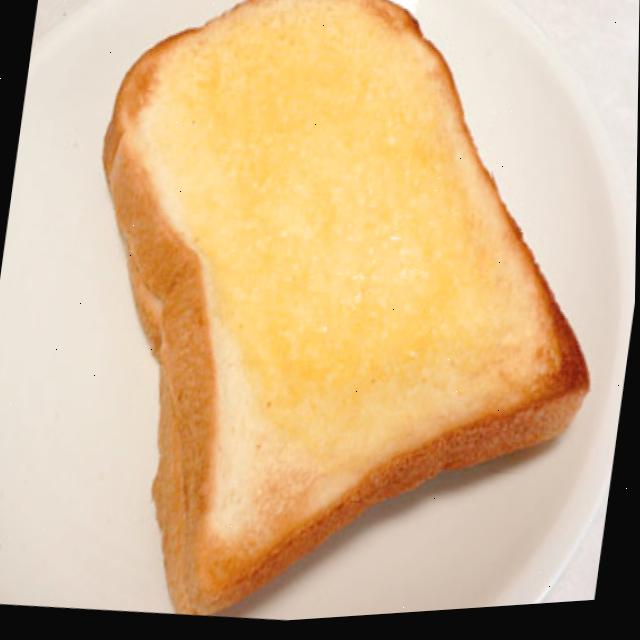面包点心: (20, 0, 640, 639)
